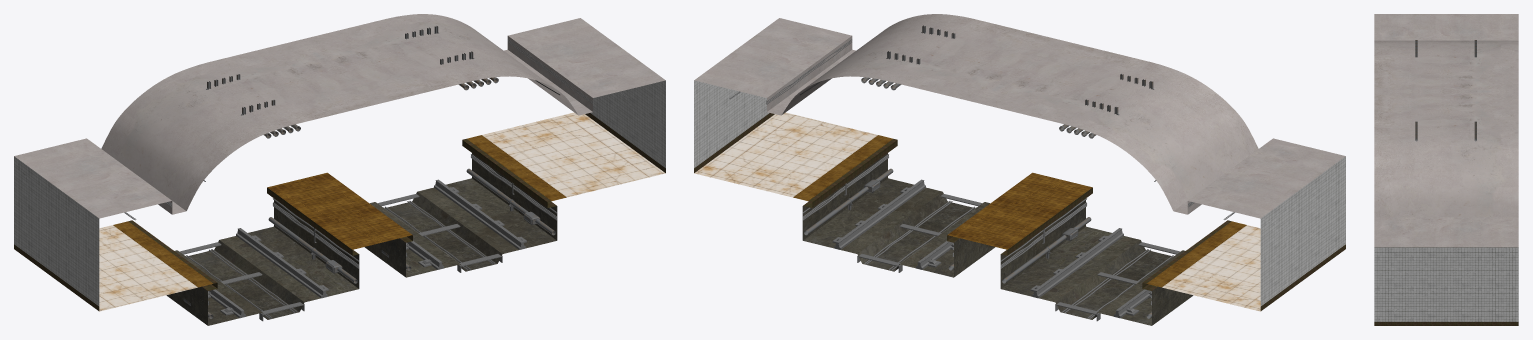
File: Ped_Tunnel_Middle_02_01.fbx
3 renders of one model, left to right at view 1: azimuth 30°, elevation 25°; view 2: azimuth 150°, elevation 25°; view 3: azimuth 270°, elevation 25°, orthographic. The views are drawn at different scales.
Parts seen in each view (by area): view 1: Ped_Tunnel_Middle_02_01; view 2: Ped_Tunnel_Middle_02_01; view 3: Ped_Tunnel_Middle_02_01.
Boxes of the visible parts, x1,y1,x2,y2 form: Ped_Tunnel_Middle_02_01: [14, 14, 665, 325]; Ped_Tunnel_Middle_02_01: [694, 14, 1345, 325]; Ped_Tunnel_Middle_02_01: [1374, 14, 1518, 325].
Size of the model in its own units: 1916 by 627 by 501.
